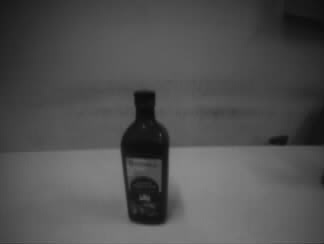Bottle: (119, 89, 172, 225)
